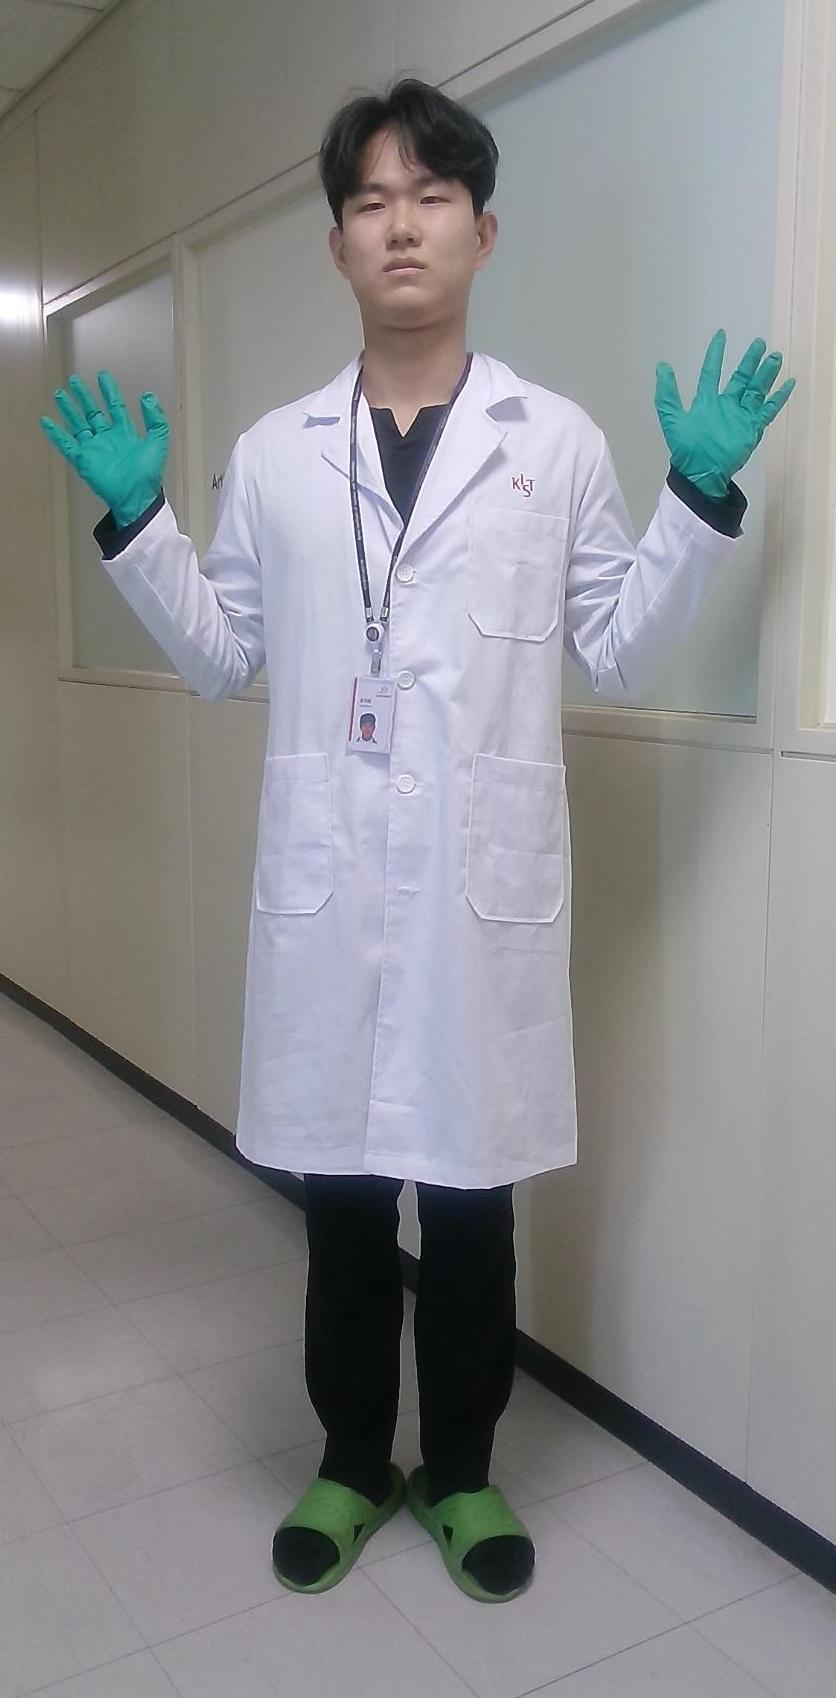lab_coat: (106, 349, 733, 1190)
